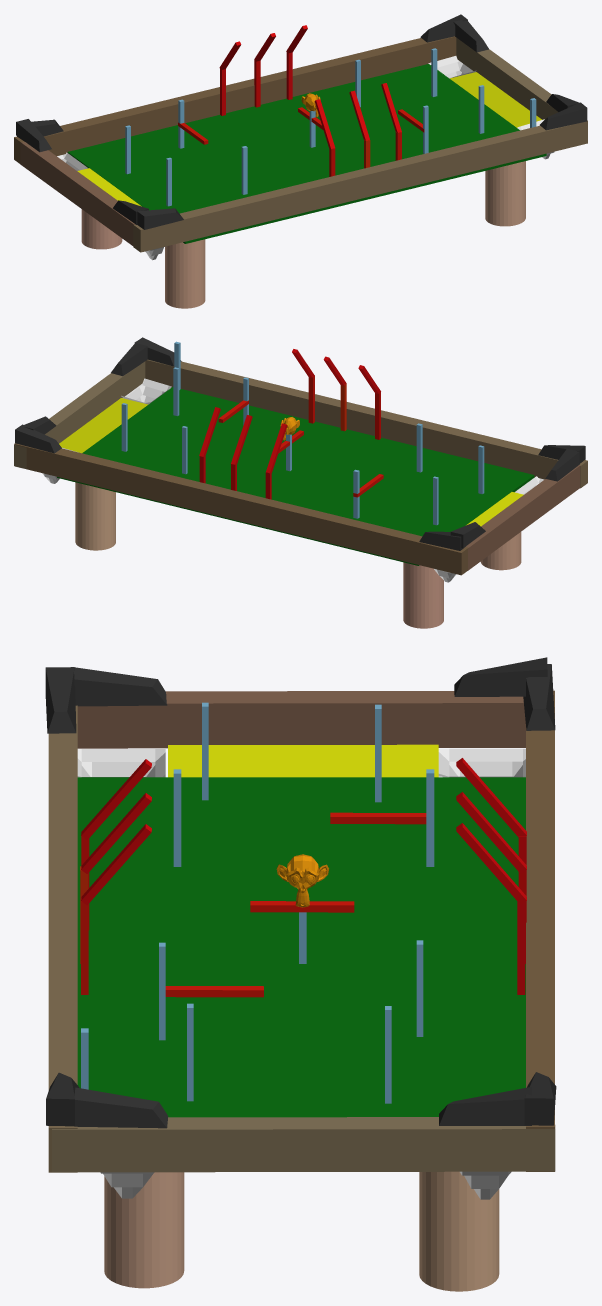
Rendered from СТОЛДЛЯВАНИлвл7илихезе.fbx.
3 views of the same model, one above another, from view 1: azimuth 30°, elevation 25°; view 2: azimuth 150°, elevation 25°; view 3: azimuth 270°, elevation 25° (orthographic). The views are drawn at different scales.
Visible parts, largest first — view 1: Cube, Cube.001, Cube.002, Cube.003, Cube.004, Cylinder.001, Cylinder.002, Plane.005, Cylinder, Cube.008, Cube.010, Cube.011 (+5 smaller); view 2: Cube, Cube.002, Cube.001, Cube.003, Cube.004, Cylinder.003, Cylinder, Plane.005, Cylinder.001, Cube.006, Plane, Cube.007 (+6 smaller); view 3: Cube, Cube.004, Cube.003, Cube.001, Cube.002, Cylinder.003, Plane.009, Cylinder.002, Cube.007, Cube.009, Cube.005, Cube.011 (+21 smaller).
Boxes of the visible parts, bbox=[...] form: Cube: bbox=[67, 64, 546, 243]; Cube.001: bbox=[133, 121, 587, 252]; Cube.002: bbox=[14, 36, 456, 163]; Cube.003: bbox=[20, 141, 135, 245]; Cube.004: bbox=[456, 37, 587, 120]; Cylinder.001: bbox=[165, 239, 205, 308]; Cylinder.002: bbox=[485, 161, 525, 226]; Plane.005: bbox=[450, 72, 541, 127]; Cylinder: bbox=[81, 209, 122, 249]; Cube.008: bbox=[540, 102, 587, 130]; Cube.010: bbox=[137, 208, 183, 229]; Cube.011: bbox=[16, 119, 51, 152]; Cube: bbox=[57, 387, 534, 565]; Cube.002: bbox=[14, 443, 468, 575]; Cube.001: bbox=[145, 359, 587, 488]; Cube.003: bbox=[466, 465, 580, 570]; Cube.004: bbox=[14, 361, 145, 468]; Cylinder.003: bbox=[75, 482, 115, 550]; Cylinder: bbox=[403, 562, 443, 628]; Plane.005: bbox=[59, 398, 147, 453]; Cylinder.001: bbox=[480, 532, 521, 570]; Cube.006: bbox=[15, 424, 61, 453]; Plane: bbox=[121, 378, 171, 404]; Cube.007: bbox=[111, 343, 147, 376]; Cube: bbox=[77, 777, 525, 1117]; Cube.004: bbox=[52, 1117, 555, 1172]; Cube.003: bbox=[77, 691, 525, 748]; Cube.001: bbox=[48, 705, 77, 1172]; Cube.002: bbox=[526, 690, 554, 1171]; Cylinder.003: bbox=[419, 1171, 499, 1291]; Plane.009: bbox=[168, 744, 438, 777]; Cylinder.002: bbox=[104, 1172, 184, 1288]; Cube.007: bbox=[74, 1087, 168, 1128]; Cube.009: bbox=[74, 667, 167, 706]; Cube.005: bbox=[439, 1086, 531, 1125]; Cube.011: bbox=[454, 657, 547, 696].
Size of the model in its own units: 173 by 60.78 by 85.15.
